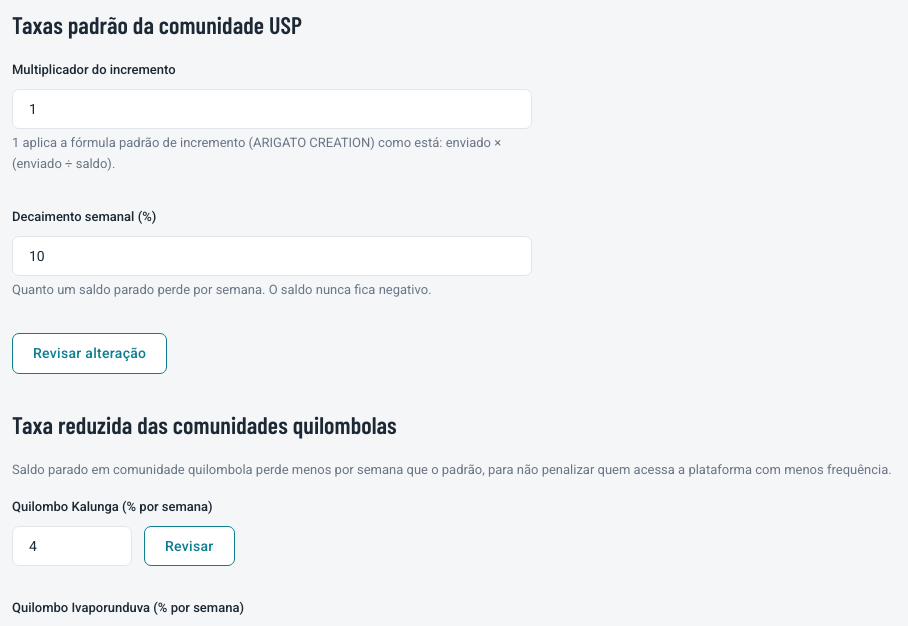
TokenSettingsPanel › refuses a default decay at or below a community rate
Replace the text in the field labelled "Decaimento semanal (%)" with "5". click: point(272, 256)
box: [12,236,532,276]
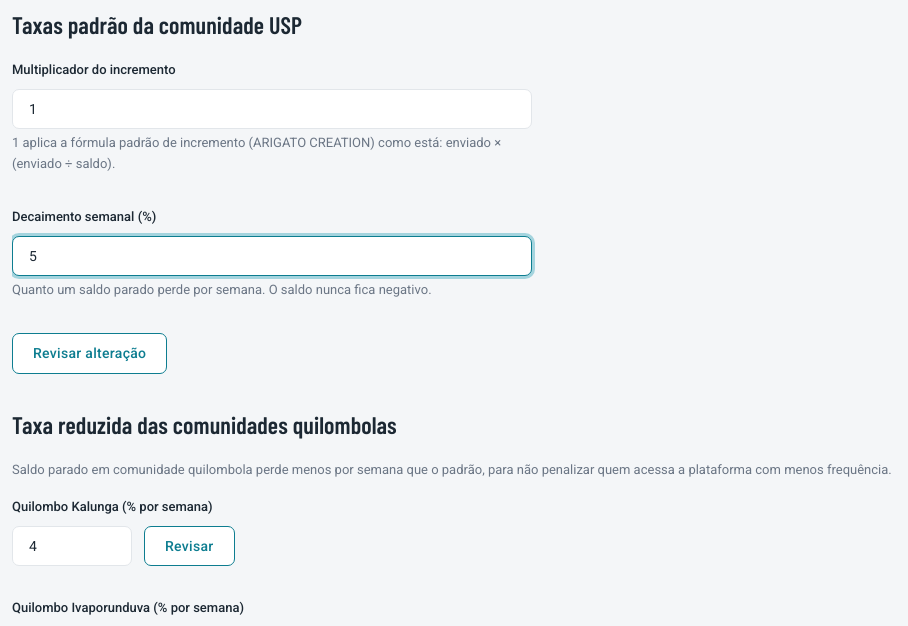
Click the button "Revisar alteração". click: point(90, 353)
box: [12,333,167,374]
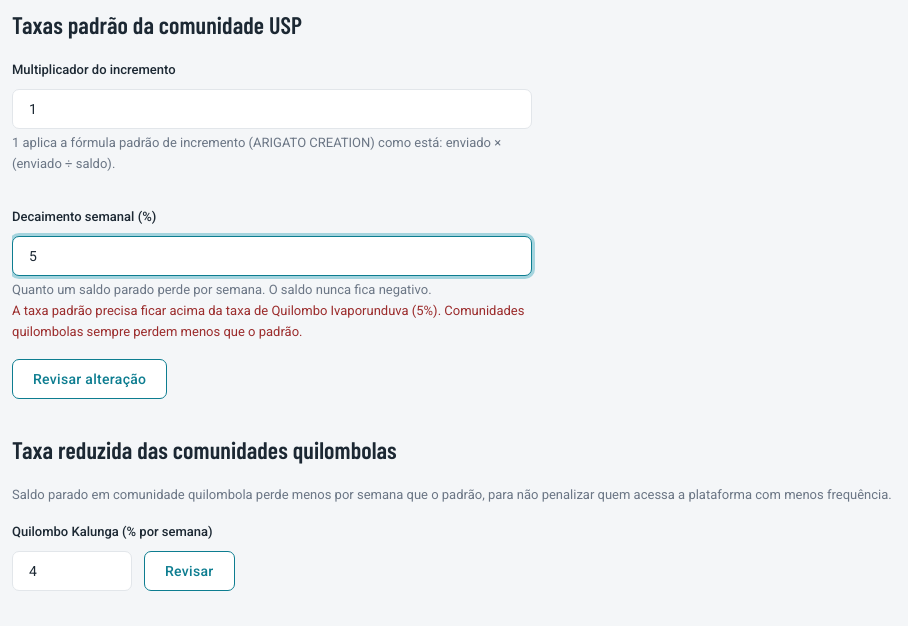
Expected: the text "acima da taxa de Quilombo Ivaporunduva" is shown, [12,303,524,339]
